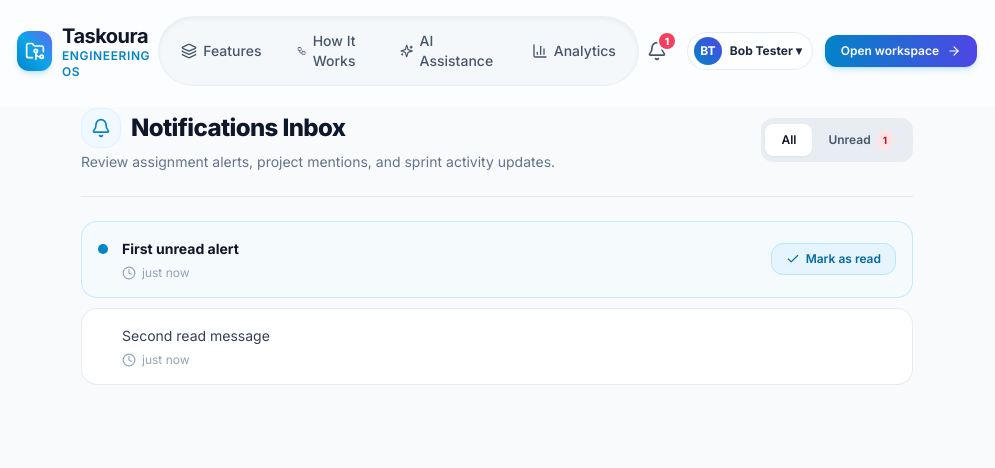
Module F9: NotificationsPage Tabs & List › renders all notifications, filters by unread tab, and marks read via button
This screenshot has width=995, height=468.
Expected: the text "First unread alert" is shown, [122,240,239,257]
Expected: the text "Second read message" is shown, [122,327,270,344]
// Click mark read button for notif-1
Step 1. Click the button with test id "mark-read-btn-notif-1" → (833, 259), box [771,243,896,275]
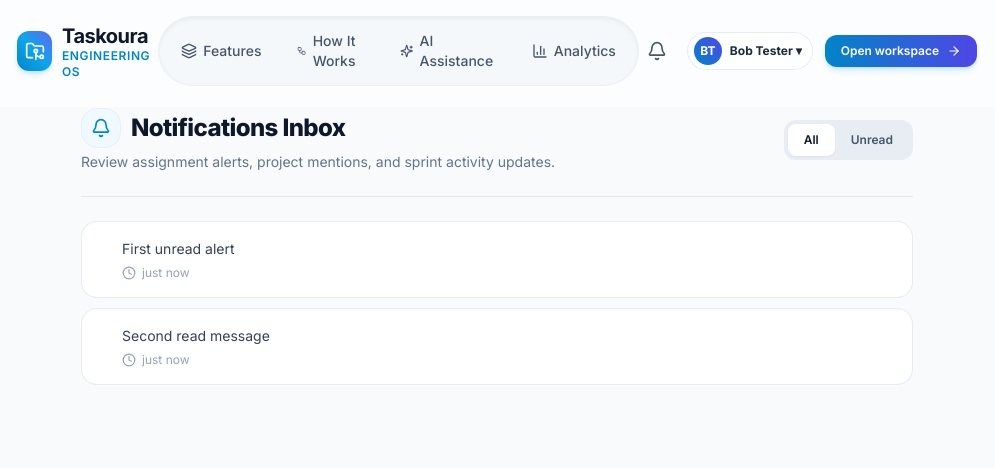
// Switch to Unread tab
Step 2. Click the button with test id "tab-unread-notifications" → (872, 140), box [835,124,909,156]
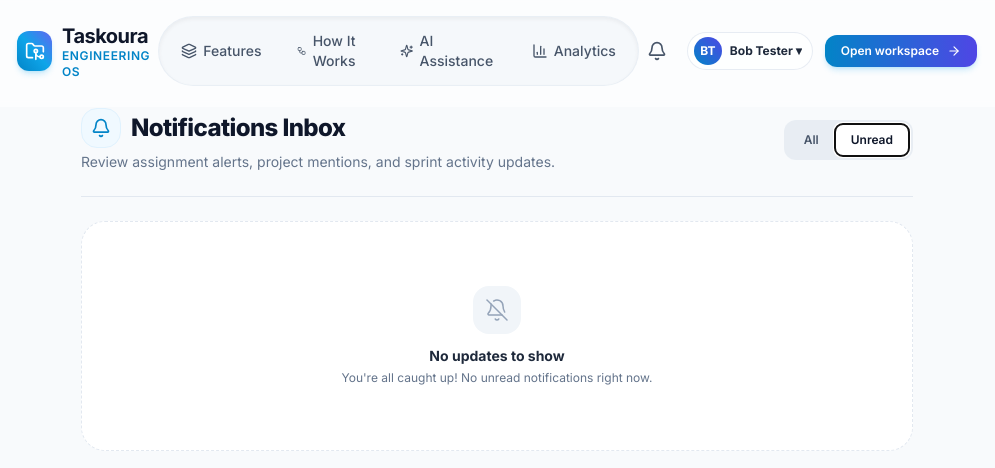
Expected: the text "You're all caught up! No unread notifications right now." is shown, [342,370,652,385]
